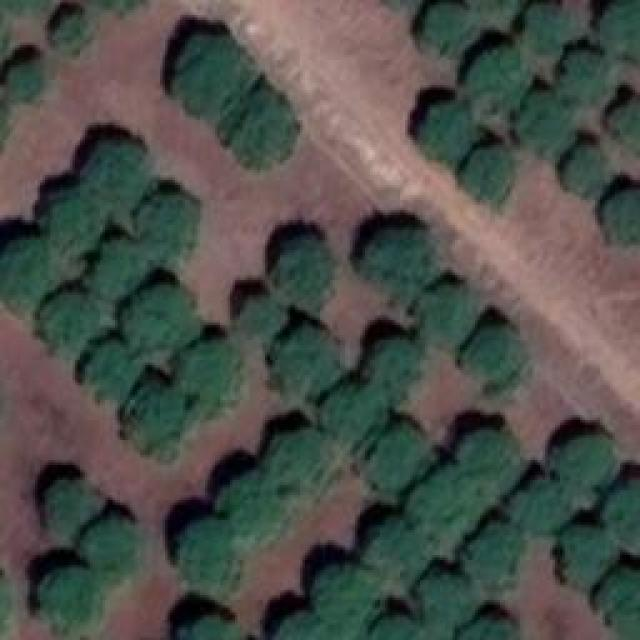Tree: (175, 510, 248, 592), (173, 30, 249, 103), (118, 385, 190, 462), (33, 562, 109, 632), (135, 193, 205, 266), (82, 137, 154, 207), (408, 470, 476, 542), (360, 228, 438, 290), (225, 475, 291, 547), (170, 344, 238, 412), (450, 425, 522, 489), (120, 293, 193, 356), (508, 475, 575, 541), (418, 93, 483, 161), (273, 430, 340, 495), (468, 40, 532, 108), (228, 93, 291, 161), (43, 188, 106, 256), (270, 235, 329, 306), (463, 523, 527, 588), (463, 323, 525, 390), (512, 90, 571, 160), (455, 143, 516, 210), (310, 568, 384, 622), (75, 518, 141, 578), (553, 518, 612, 585), (368, 430, 433, 489), (0, 235, 60, 296), (38, 293, 100, 352), (557, 43, 616, 105), (272, 328, 330, 391), (421, 280, 478, 343), (365, 525, 422, 586), (548, 427, 609, 484), (325, 385, 381, 447), (85, 340, 139, 404), (40, 478, 101, 534), (595, 560, 640, 635), (92, 235, 150, 293), (368, 338, 422, 398), (413, 0, 475, 51), (522, 0, 581, 53), (418, 568, 470, 628), (557, 140, 614, 194), (600, 473, 640, 545), (598, 0, 640, 67), (235, 298, 286, 352), (607, 185, 640, 250), (0, 52, 45, 98), (48, 8, 95, 52), (368, 610, 431, 640), (458, 610, 521, 640), (605, 90, 640, 143), (175, 610, 237, 639), (273, 610, 332, 639)
